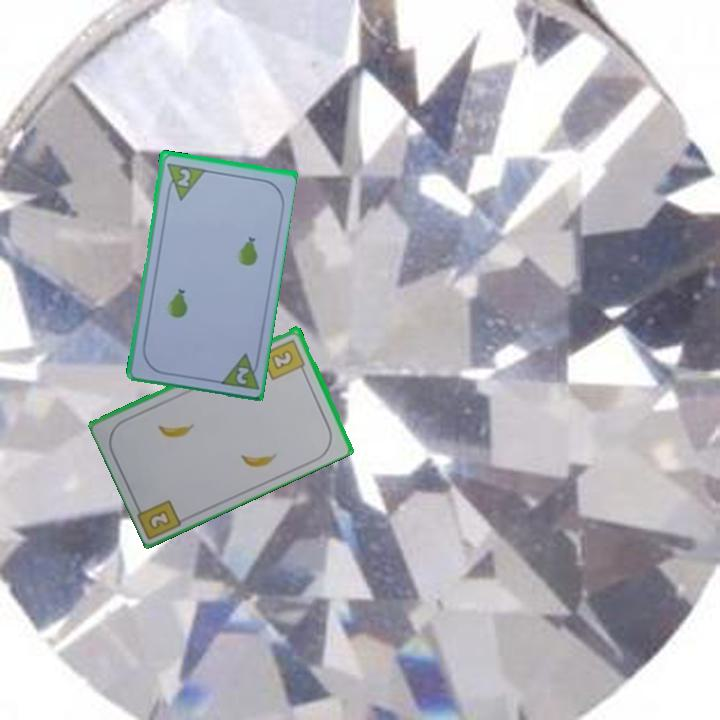2b: (258, 335, 308, 382), (145, 506, 174, 532)
2p: (232, 363, 252, 387), (174, 165, 193, 189)
